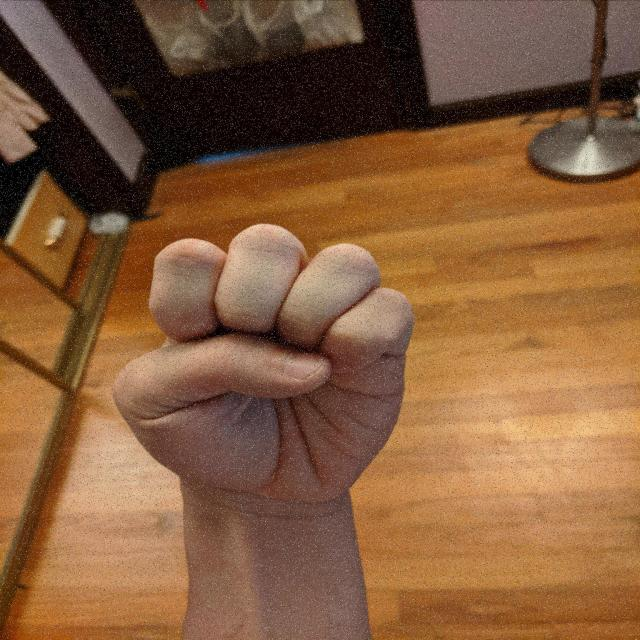E: (106, 219, 422, 499)
